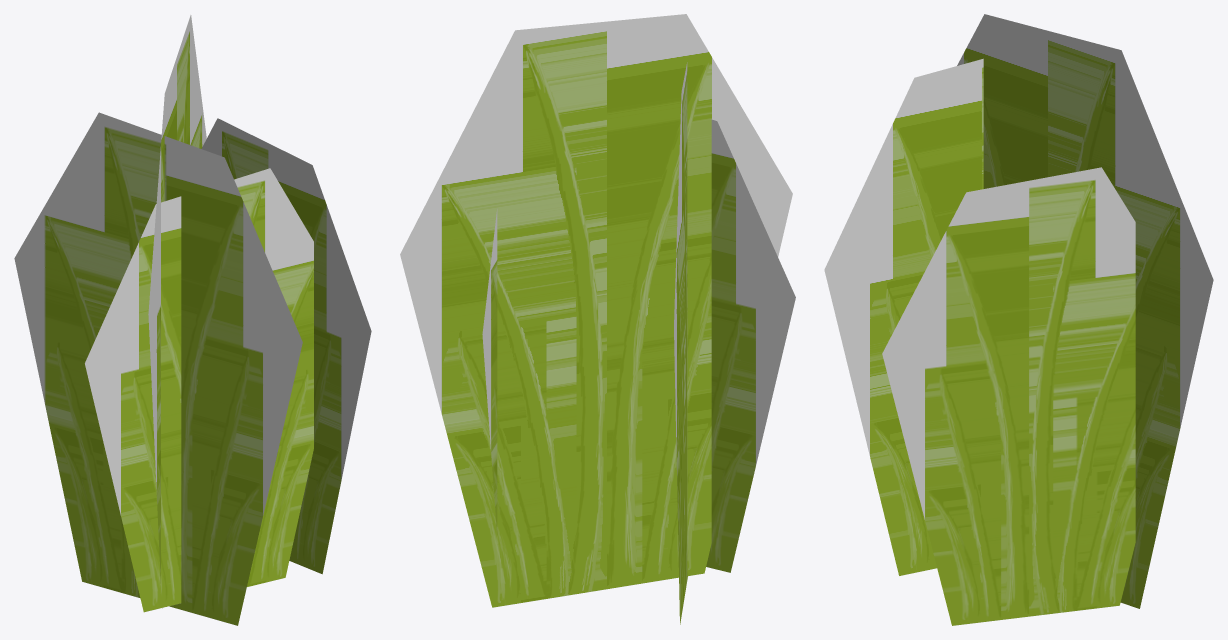
The model's file is SM_Grass.fbx.
3 views of the same model, side by side, from view 1: azimuth 30°, elevation 25°; view 2: azimuth 150°, elevation 25°; view 3: azimuth 270°, elevation 25° (orthographic). The views are drawn at different scales.
Visible parts, largest first — view 1: Plane; view 2: Plane; view 3: Plane.
Boxes of the visible parts, <box> form: Plane: <box>14,15,371,625</box>; Plane: <box>400,14,795,624</box>; Plane: <box>824,14,1213,625</box>.
Bounding box in the file's own units: 69.02 × 57.26 × 109.
